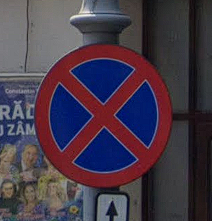oprirea_interzisa: (34, 45, 174, 188)
